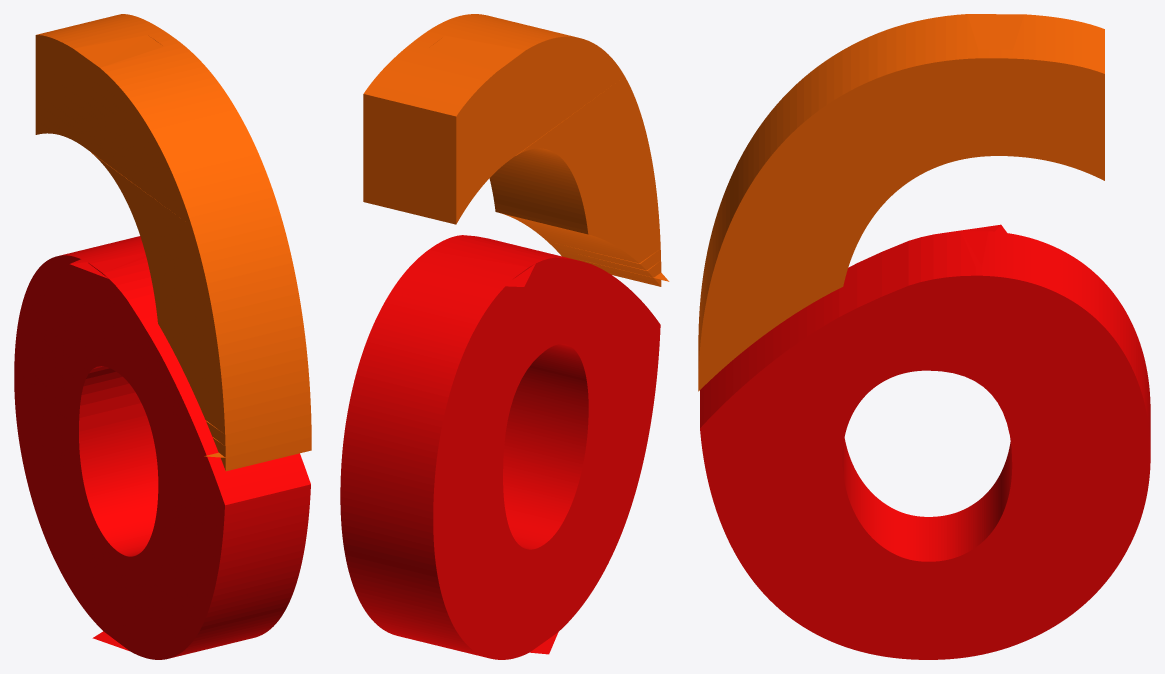
Rendered from SevenEleven_6.fbx.
3 renders of one model, left to right at view 1: azimuth 30°, elevation 25°; view 2: azimuth 150°, elevation 25°; view 3: azimuth 270°, elevation 25°, orthographic. The views are drawn at different scales.
Visible parts, largest first — view 1: lower_6, upper_6; view 2: lower_6, upper_6; view 3: lower_6, upper_6.
Boxes of the visible parts, box(x1,y1,x2,y2) form: lower_6: box(14, 236, 310, 659); upper_6: box(35, 14, 311, 471); lower_6: box(340, 235, 660, 659); upper_6: box(363, 14, 669, 286); lower_6: box(700, 224, 1150, 659); upper_6: box(698, 14, 1104, 391).
Bounding box in the file's own units: 52.6 × 281 × 192.
